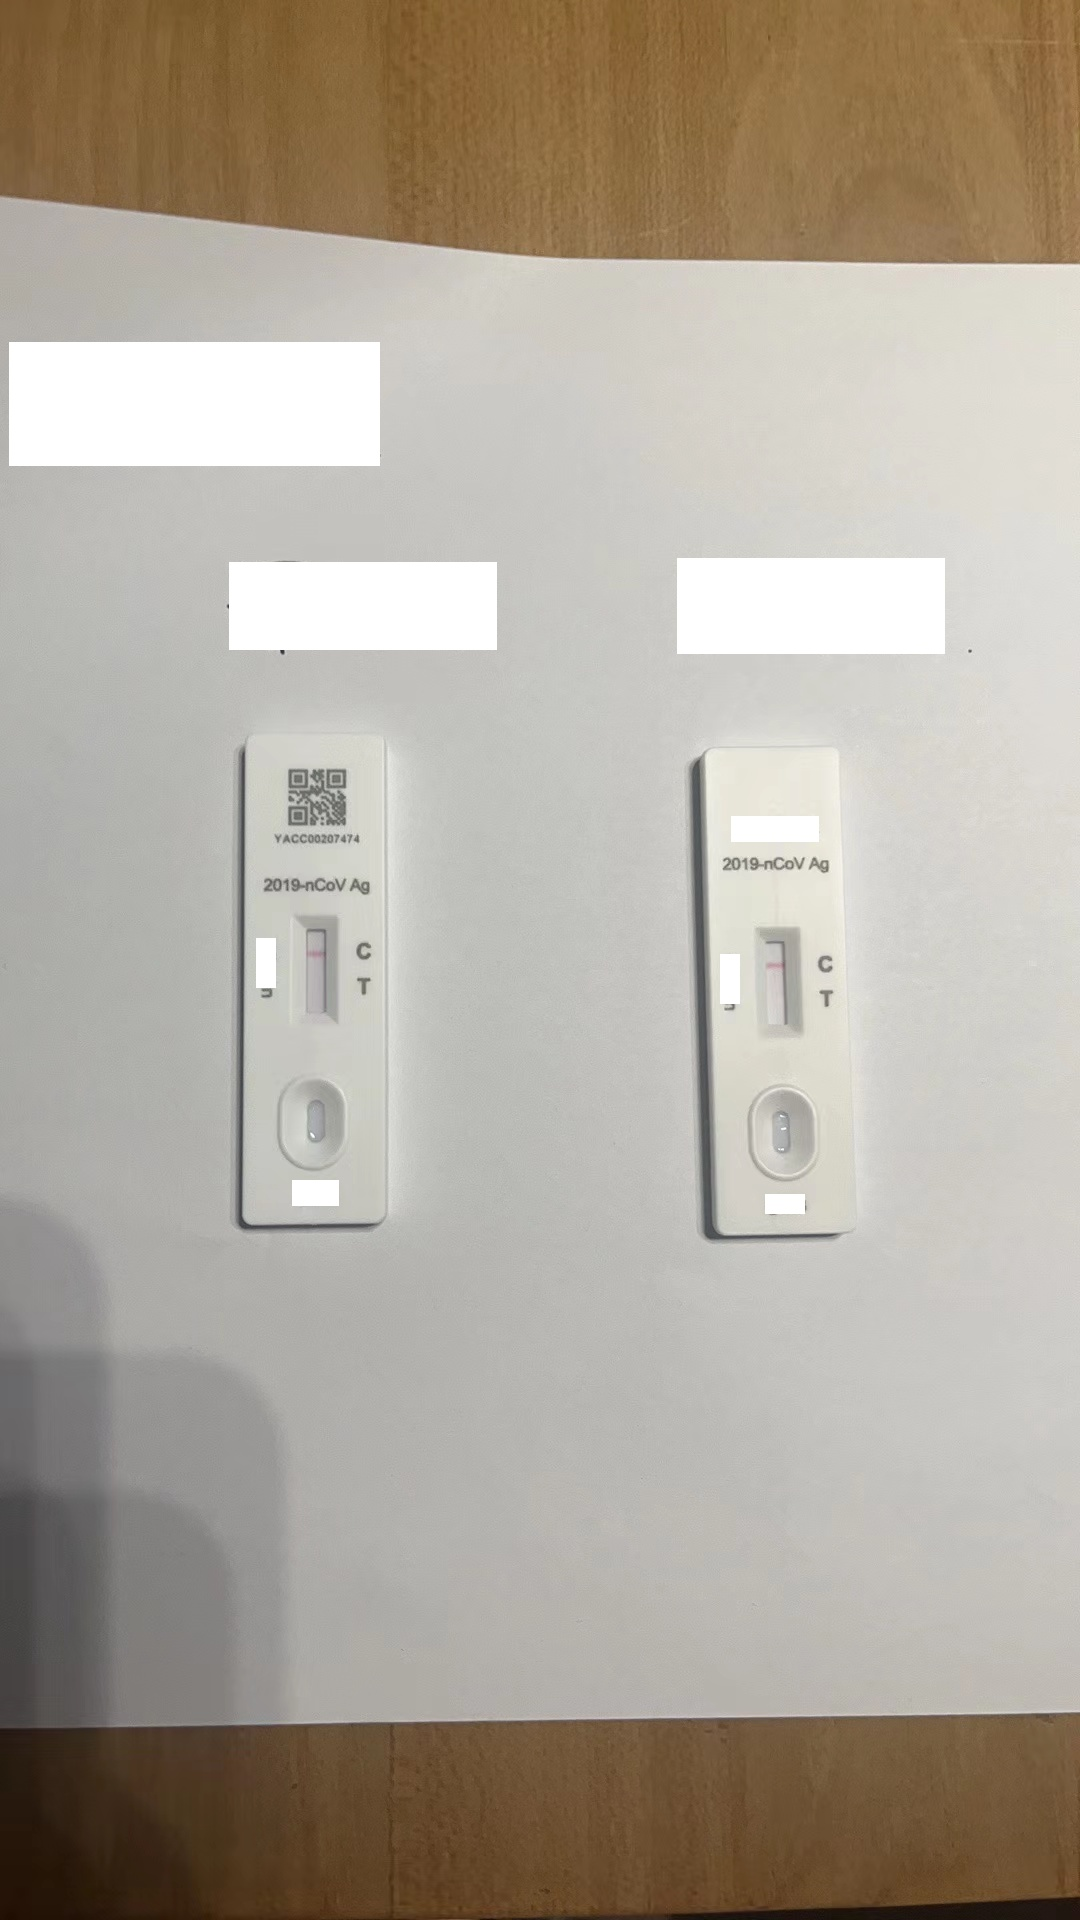negative: (757, 923, 799, 1036), (295, 913, 334, 1025)
